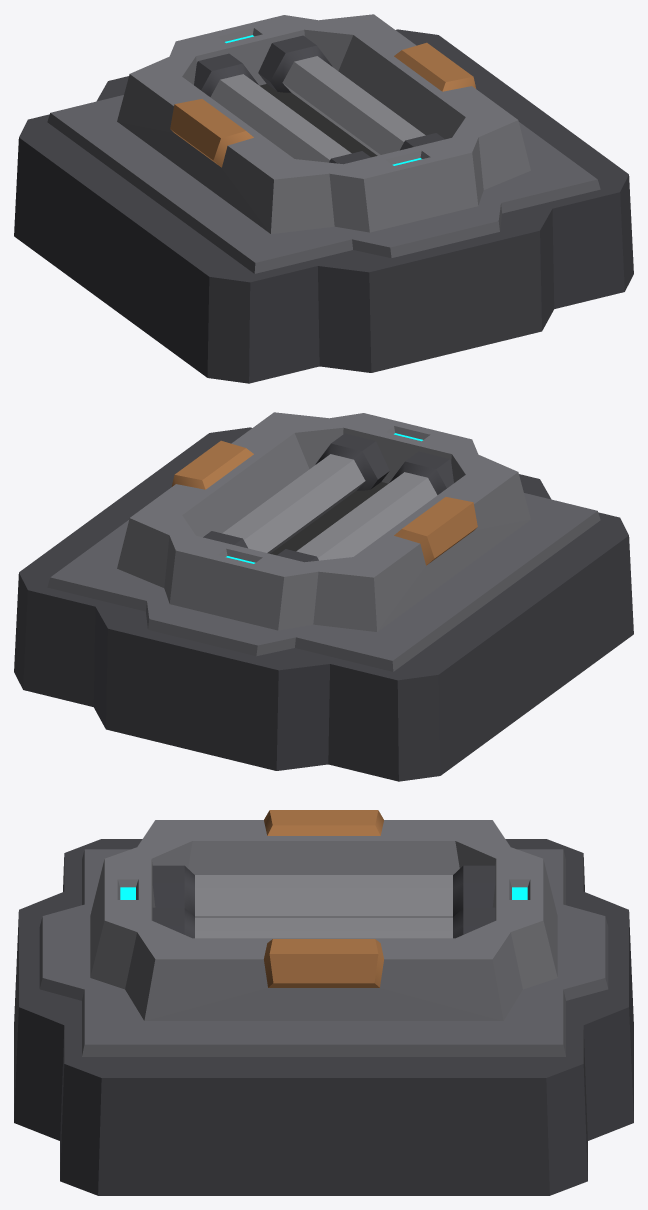
The model's file is SM_Prop_Battery_01.fbx.
3 views of the same model, one above another, from view 1: azimuth 30°, elevation 25°; view 2: azimuth 150°, elevation 25°; view 3: azimuth 270°, elevation 25° (orthographic). The views are drawn at different scales.
Visible parts, largest first — view 1: SM_Prop_Battery_01_LOD0; view 2: SM_Prop_Battery_01_LOD0; view 3: SM_Prop_Battery_01_LOD0.
Boxes of the visible parts, bbox=[...] form: SM_Prop_Battery_01_LOD0: bbox=[14, 14, 633, 383]; SM_Prop_Battery_01_LOD0: bbox=[14, 412, 633, 781]; SM_Prop_Battery_01_LOD0: bbox=[14, 810, 633, 1195].
Size of the model in its own units: 236 by 219 by 80.83.
Materials: 1 (1 with a texture image).
